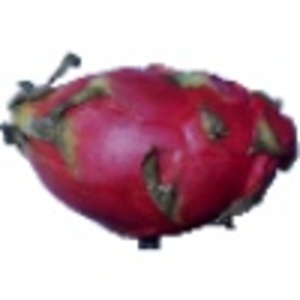pitaia: (1, 52, 300, 253)
